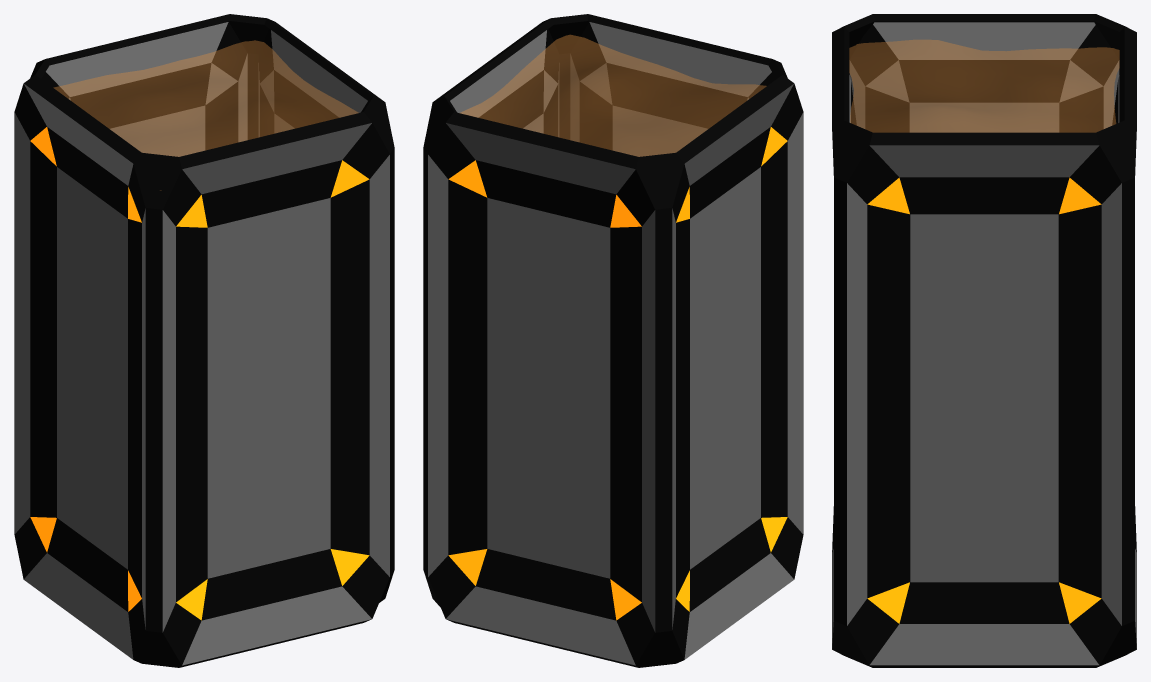
File: hammer juice.fbx
3 renders of one model, left to right at view 1: azimuth 30°, elevation 25°; view 2: azimuth 150°, elevation 25°; view 3: azimuth 270°, elevation 25°, orthographic. The views are drawn at different scales.
Visible parts, largest first — view 1: hammer juice; view 2: hammer juice; view 3: hammer juice.
Boxes of the visible parts, left/top/right/bottom form: hammer juice: left=14, top=14, right=394, bottom=667; hammer juice: left=423, top=14, right=803, bottom=667; hammer juice: left=832, top=14, right=1136, bottom=667.
Size of the model in its own units: 62.45 by 121 by 62.45.
